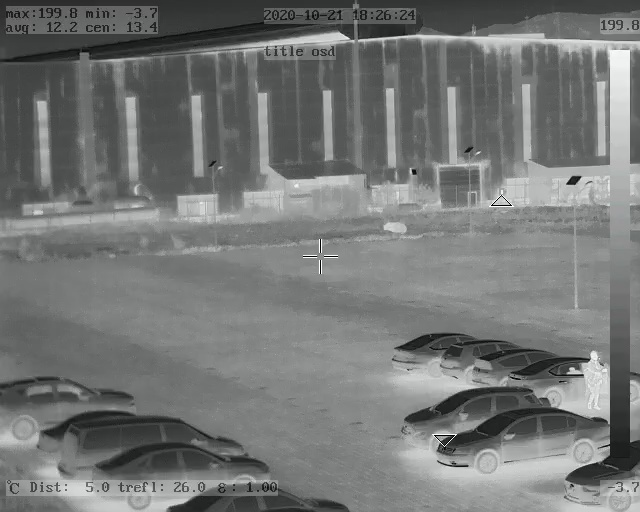person: (581, 349, 608, 406)
vehicle: (50, 415, 237, 475), (437, 411, 613, 473), (102, 439, 283, 497), (2, 378, 142, 438), (397, 387, 531, 447), (161, 484, 358, 512), (563, 445, 640, 507), (498, 350, 580, 390), (463, 346, 534, 388), (392, 331, 463, 371), (440, 339, 509, 380)
